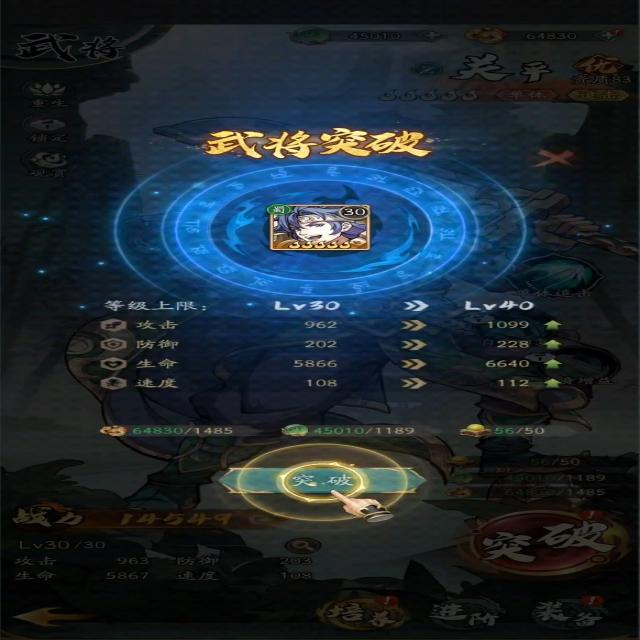hint-guide: (235, 440, 410, 525)
operation-levelUp: (212, 465, 428, 498)
